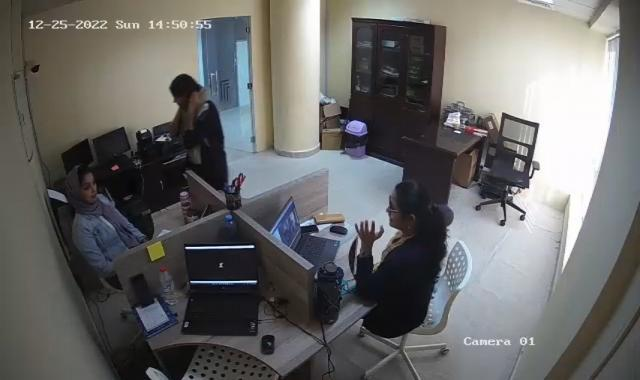no_hairnet: (390, 183, 430, 228), (66, 168, 98, 208), (169, 74, 199, 105)
